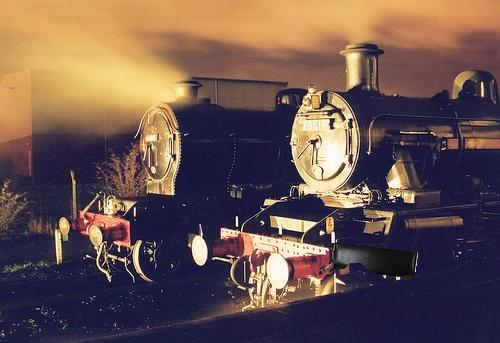tampered: (320, 244, 418, 279)
